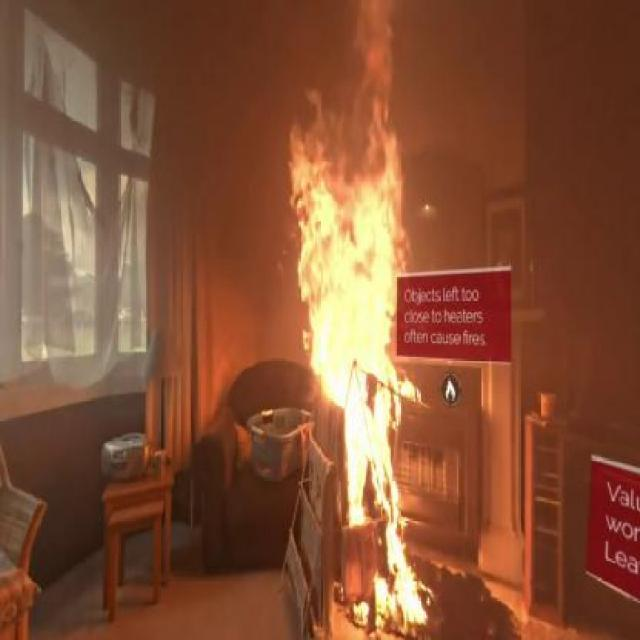fire: (310, 170, 406, 488)
smoke: (170, 1, 292, 290), (404, 1, 540, 241)
